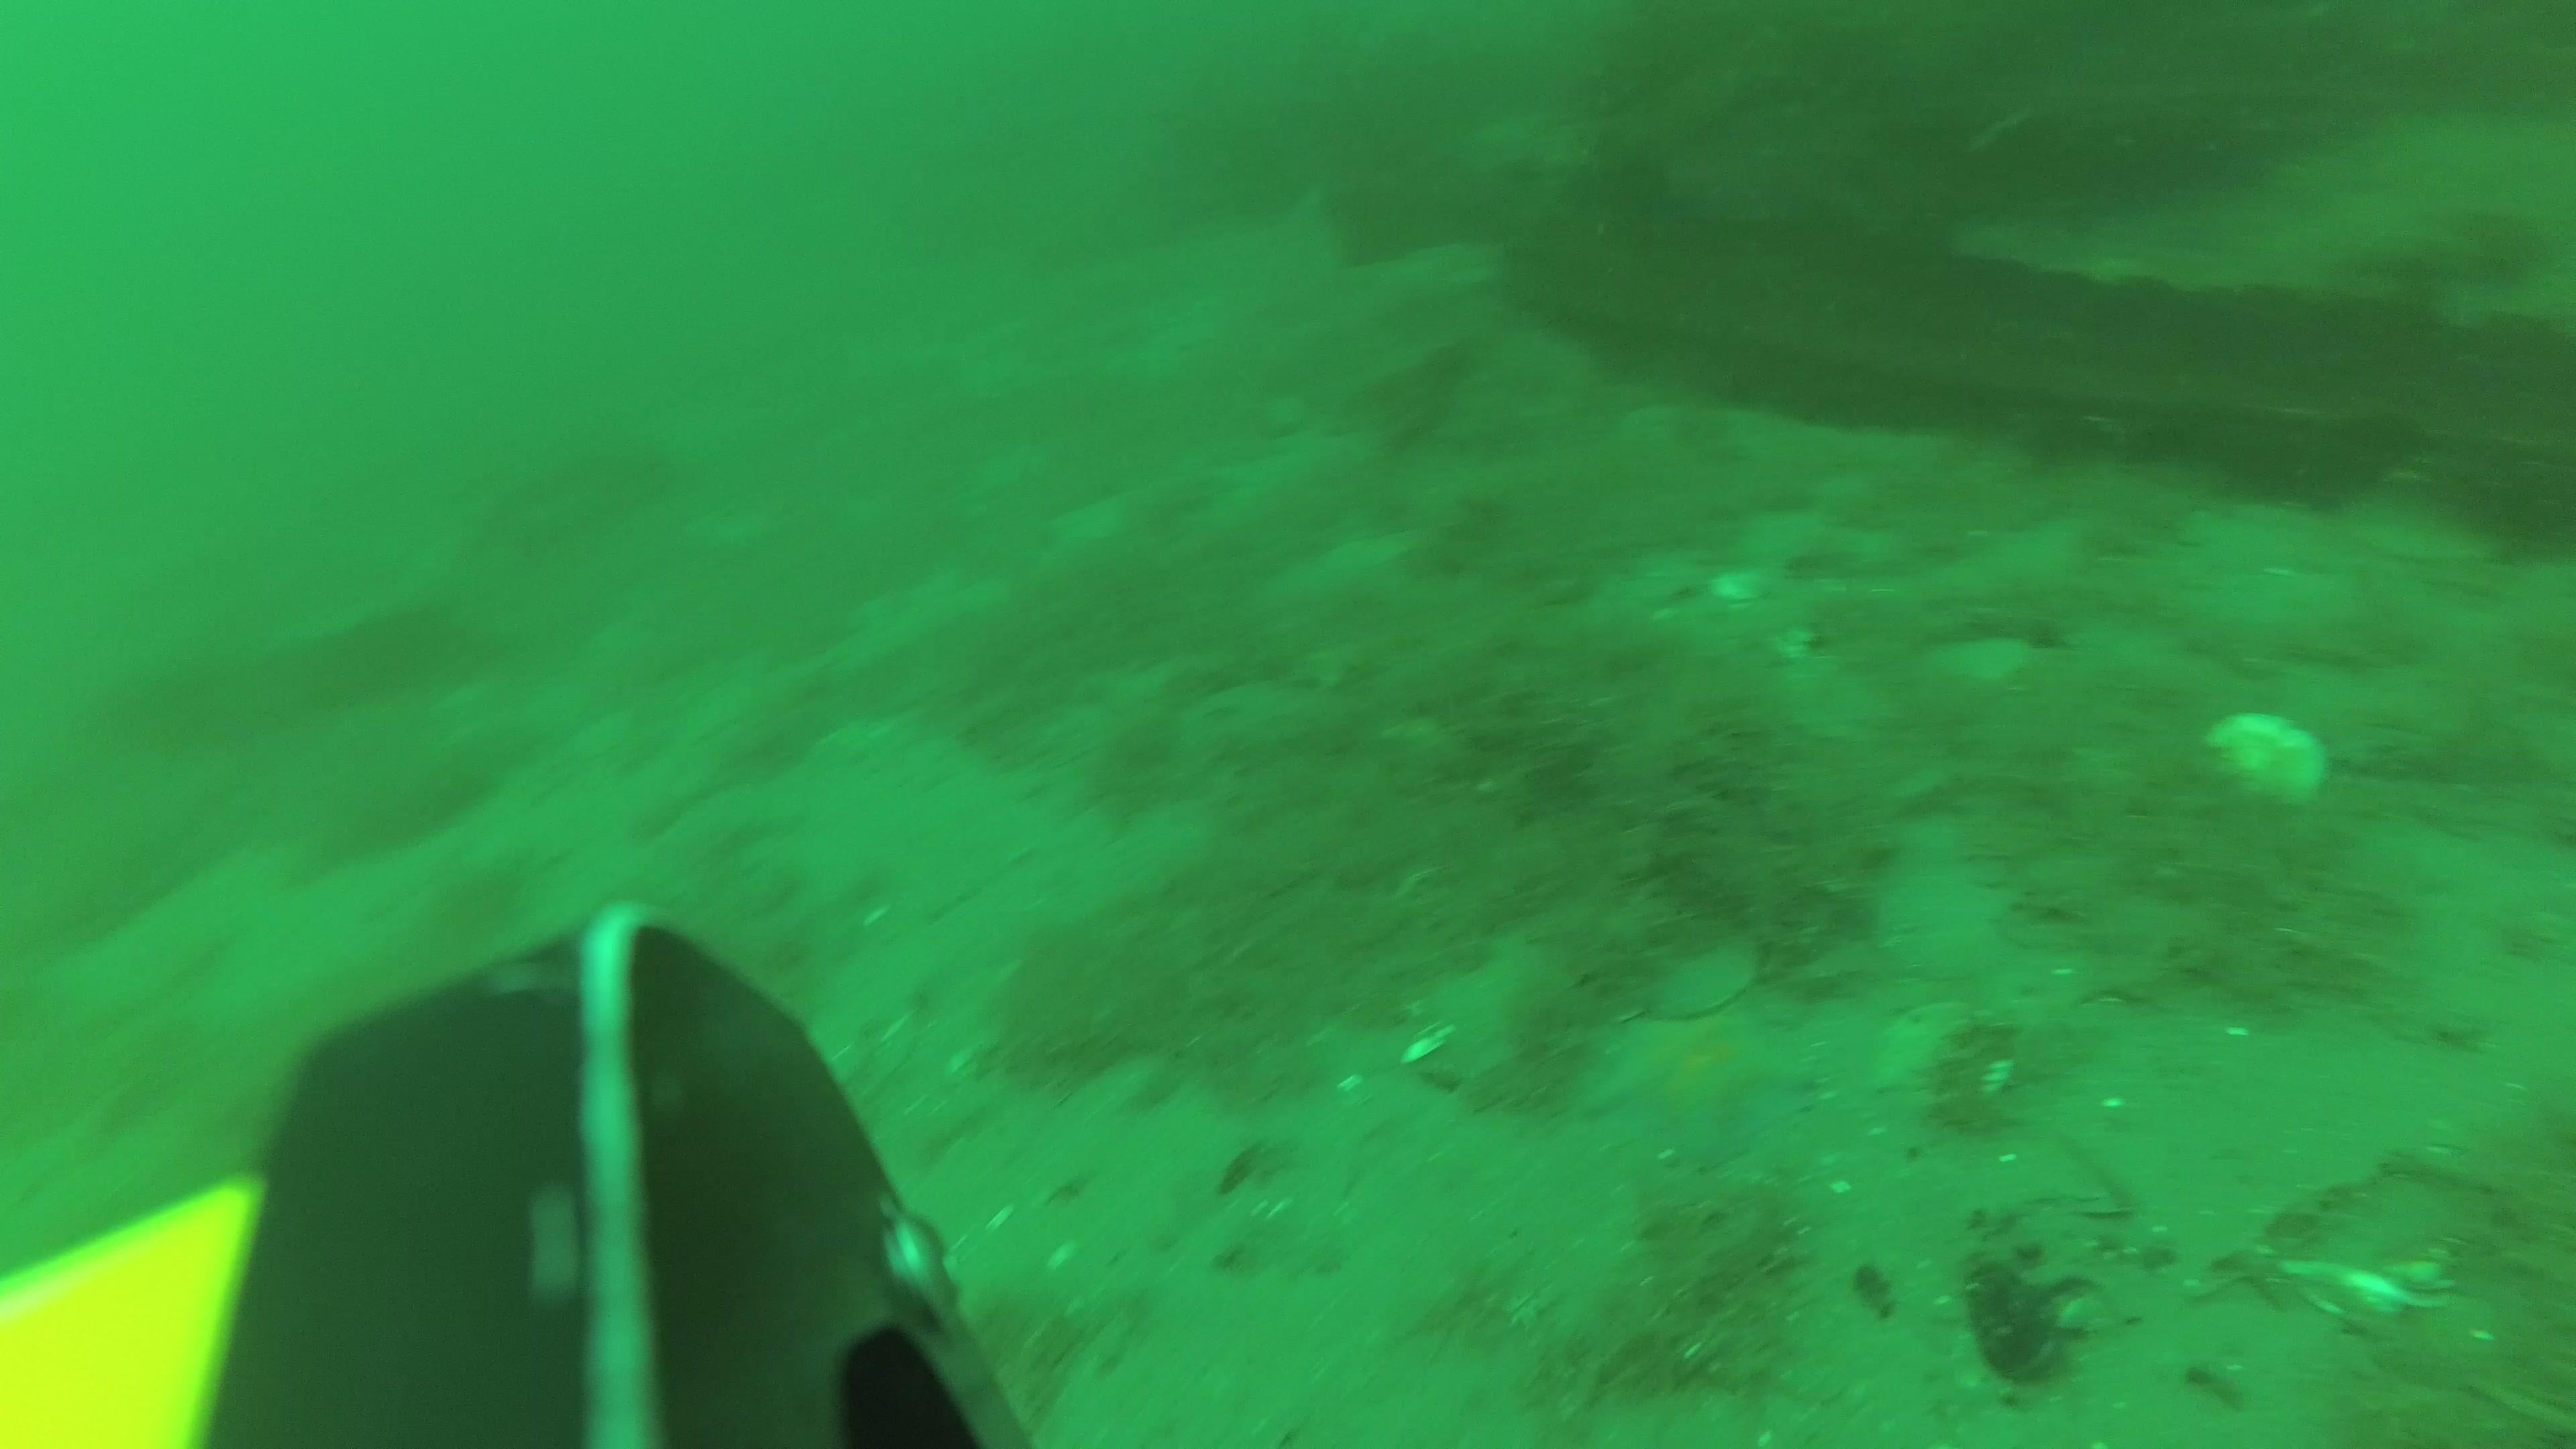scallop: (2197, 708, 2328, 819), (2353, 483, 2498, 561)
starfish: (1580, 1007, 1794, 1155)
